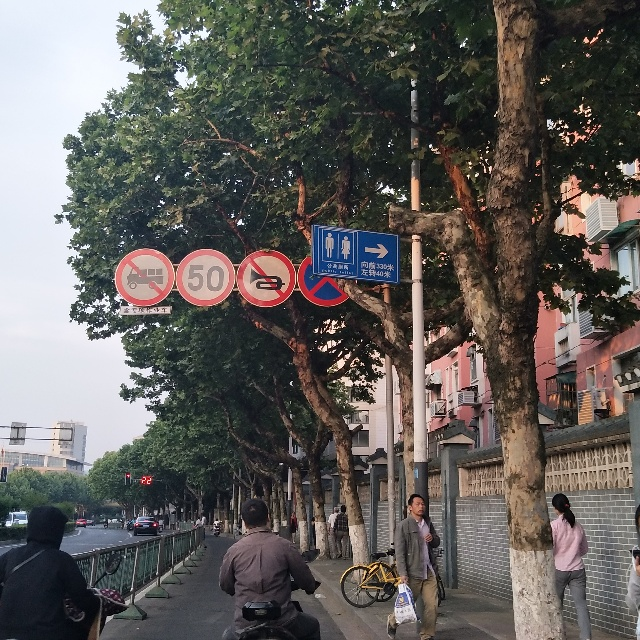nohonk: (236, 249, 298, 308)
stop: (298, 254, 357, 308)
